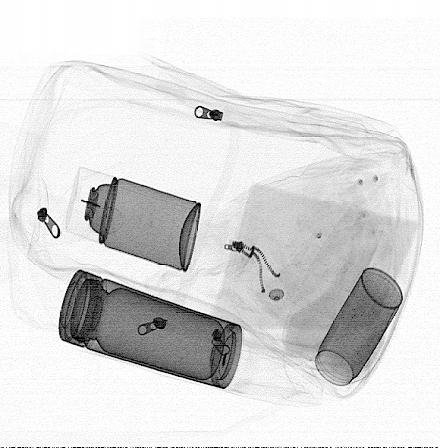Sprayer: (64, 165, 202, 274)
